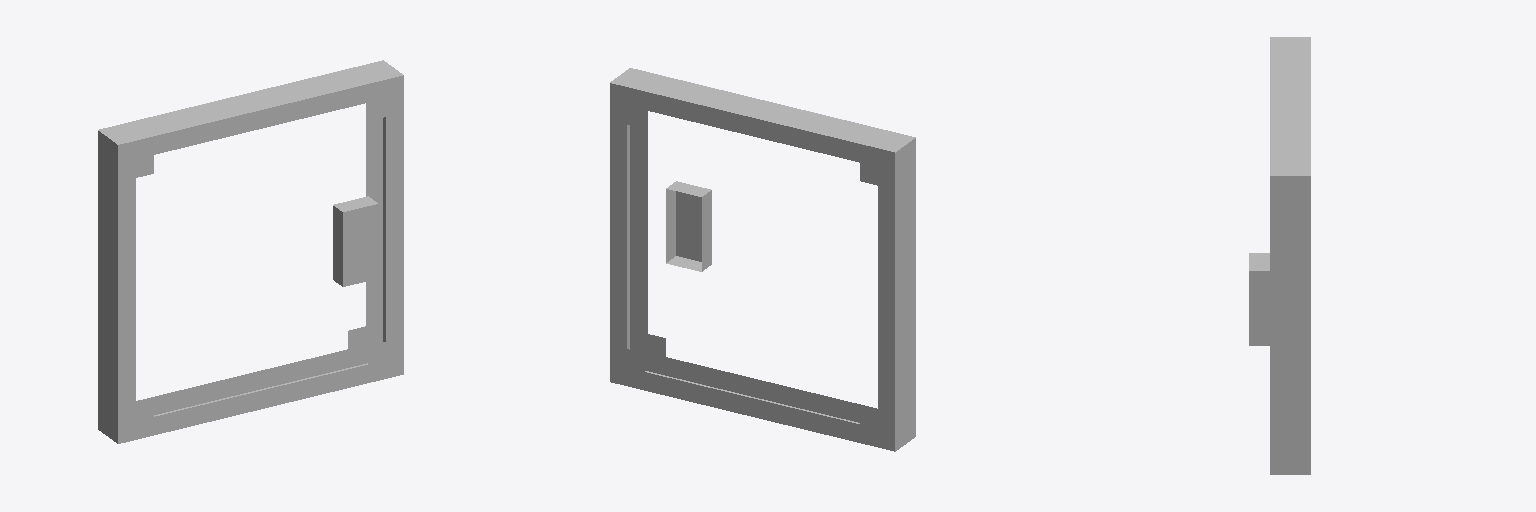
The model's file is reinforced_locker_door_frame_l.obj.
3 renders of one model, left to right at view 1: azimuth 30°, elevation 25°; view 2: azimuth 150°, elevation 25°; view 3: azimuth 270°, elevation 25°, orthographic.
Parts seen in each view (by area): view 1: reinforced_locker_door_frame_l; view 2: reinforced_locker_door_frame_l; view 3: reinforced_locker_door_frame_l.
Boxes of the visible parts, box(x1,y1,x2,y2) form: reinforced_locker_door_frame_l: box(98, 60, 403, 443); reinforced_locker_door_frame_l: box(610, 68, 915, 451); reinforced_locker_door_frame_l: box(1249, 37, 1310, 474).
Bounding box in the file's own units: 1 × 1 × 0.1875.